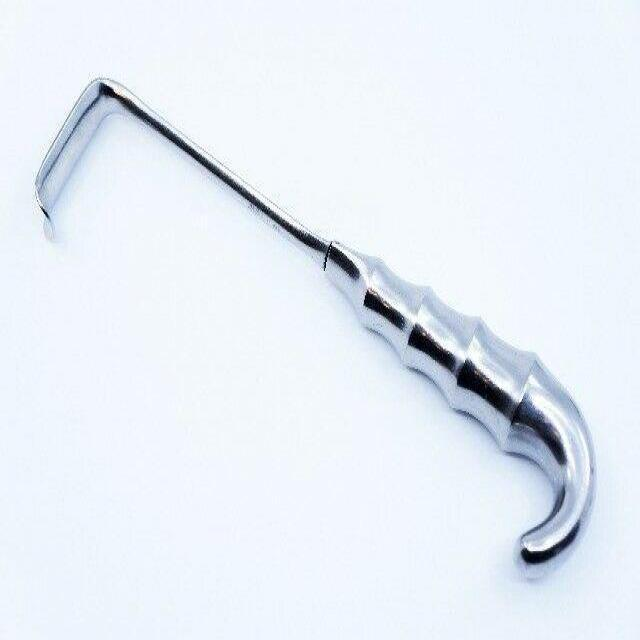Richardson: (29, 66, 600, 577)
